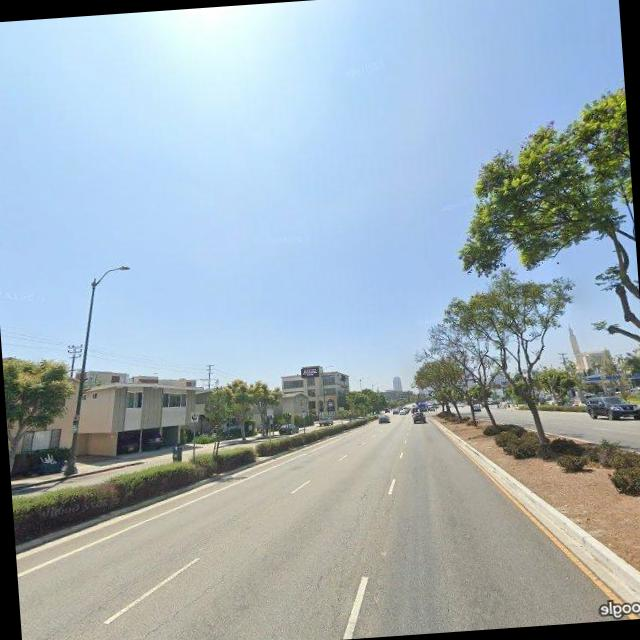pothole: (112, 567, 238, 640)
